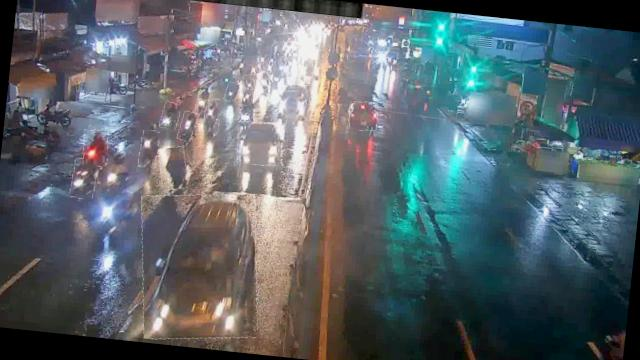Bike: (157, 146, 190, 192), (71, 158, 99, 200), (81, 130, 109, 167), (138, 129, 160, 168), (202, 100, 222, 134), (160, 102, 180, 131), (178, 110, 196, 142), (195, 87, 210, 116), (256, 72, 272, 94), (224, 82, 239, 102), (242, 85, 255, 107), (242, 74, 255, 90), (222, 69, 232, 84)
Car: (132, 187, 268, 348), (236, 120, 282, 167), (276, 83, 308, 120), (347, 100, 379, 132)
